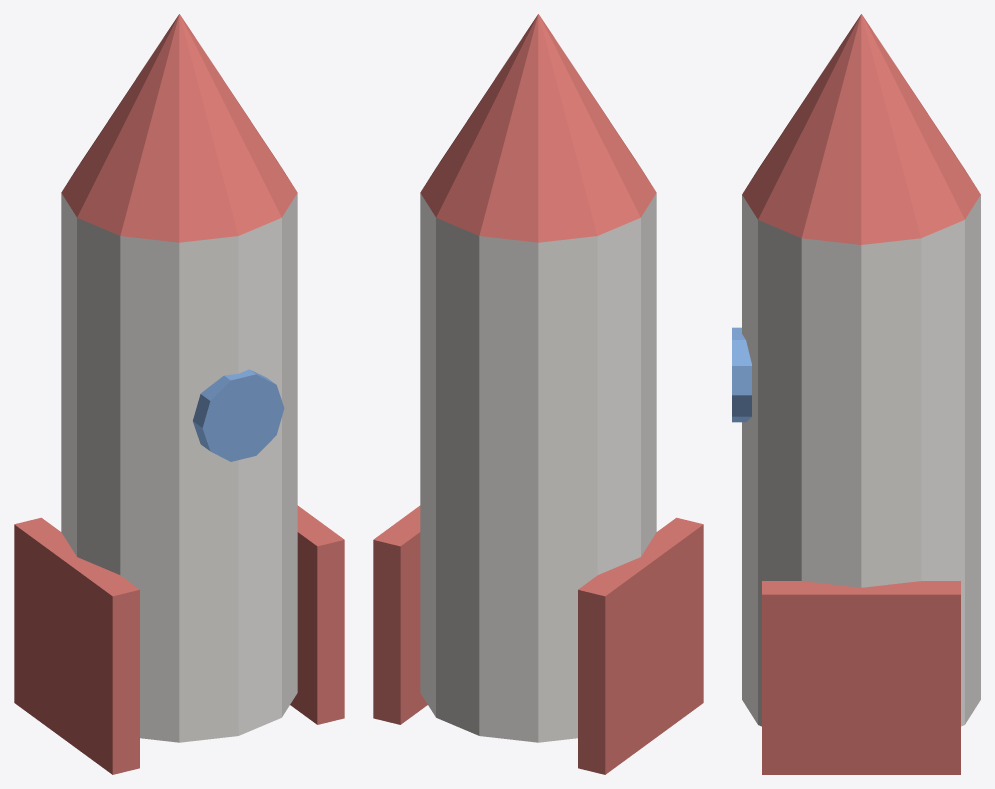
The model's file is cohete.glb.
3 views of the same model, side by side, from view 1: azimuth 30°, elevation 25°; view 2: azimuth 150°, elevation 25°; view 3: azimuth 270°, elevation 25° (orthographic).
Parts seen in each view (by area): view 1: cohete; view 2: cohete; view 3: cohete.
Part boxes in pixels (x1,y1,x2,y2): cohete: [14, 14, 344, 774]; cohete: [373, 14, 703, 774]; cohete: [732, 14, 980, 774].
Bounding box in the file's own units: 0.68 × 1.95 × 0.625.
